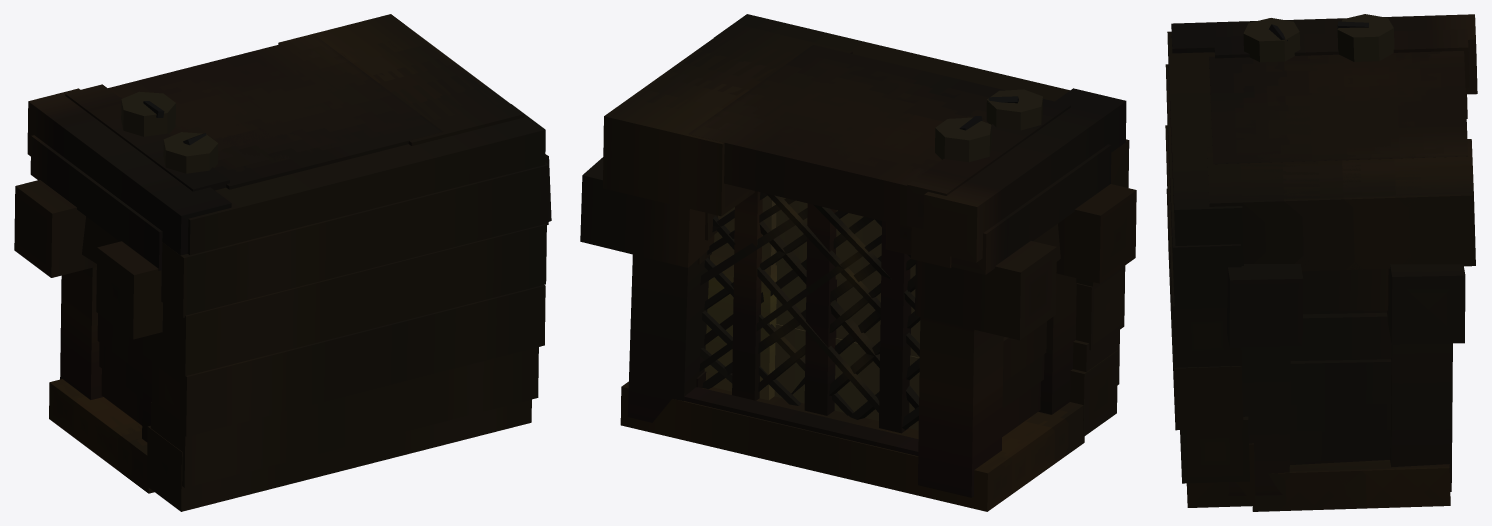
Rendered from radio_01_quill.fbx.
The picture shows the model from 3 angles, left to right: view 1: azimuth 30°, elevation 25°; view 2: azimuth 150°, elevation 25°; view 3: azimuth 270°, elevation 25°; orthographic projection. The views are drawn at different scales.
Visible parts, largest first — view 1: radio; view 2: radio; view 3: radio.
Boxes of the visible parts, bbox=[...] form: radio: bbox=[14, 14, 551, 511]; radio: bbox=[580, 14, 1136, 511]; radio: bbox=[1165, 14, 1477, 511].
Size of the model in its own units: 1.57 by 1.17 by 0.9668.
